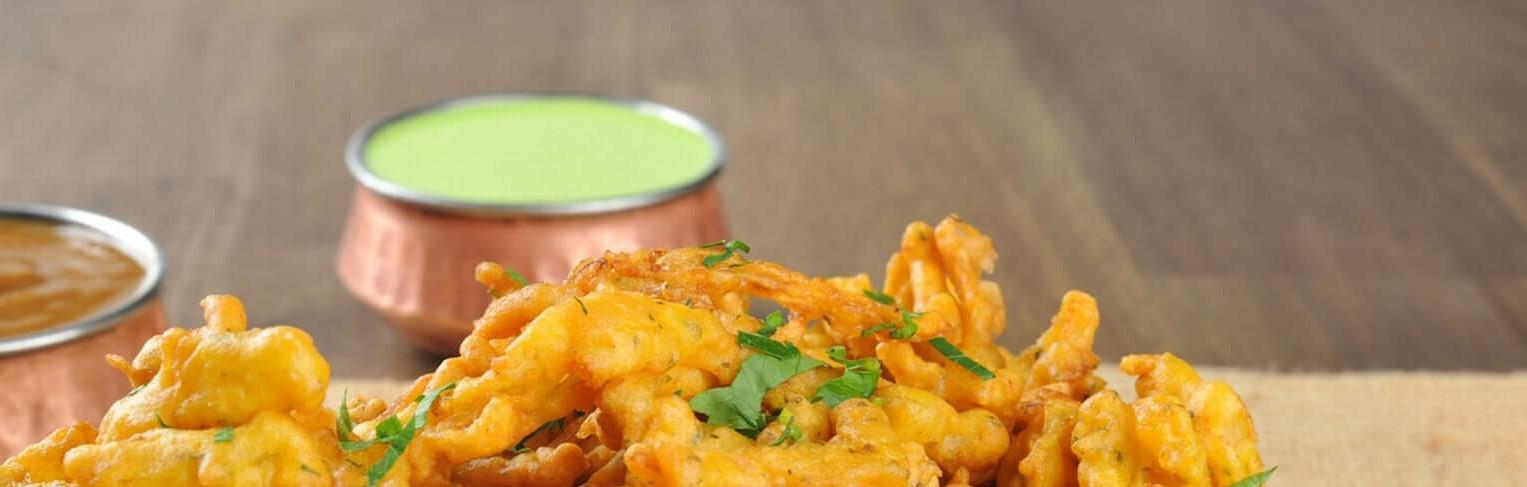GreenChutney: (367, 99, 712, 202)
OnionPakoda: (0, 212, 1258, 487)
